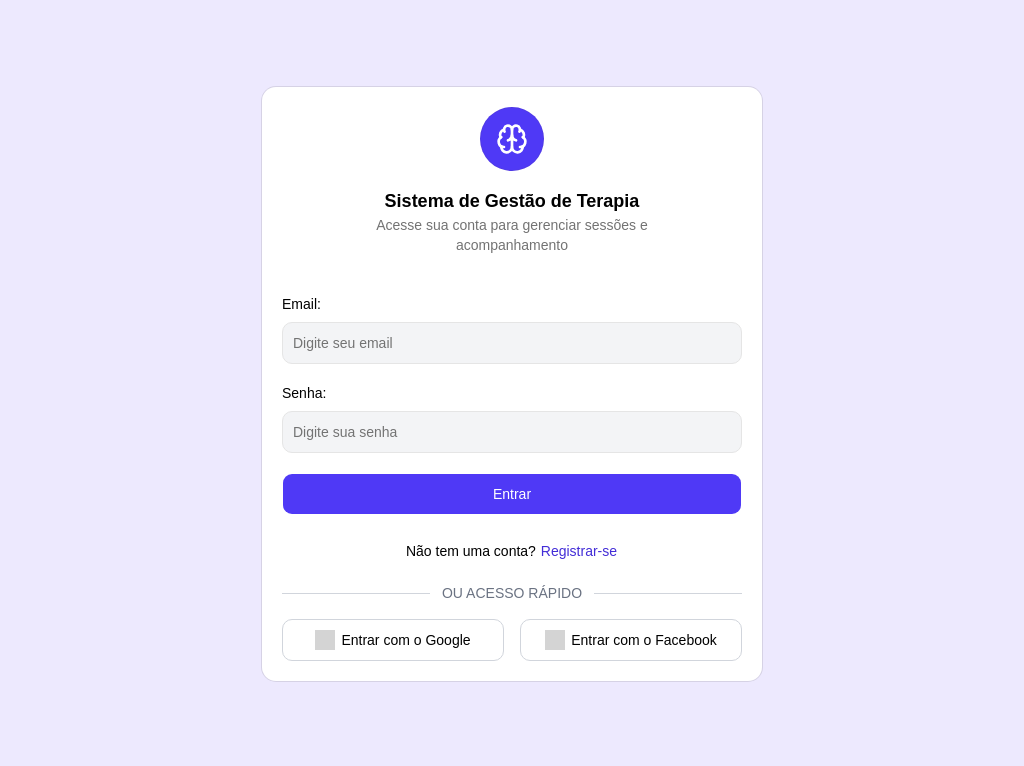
Test: Teste de Navegação do Paciente › Deve navegar para a página de agendamento de sessão
Type "teste@teste.com" into the field named "email". click: x=512, y=343
box: [282, 322, 742, 364]
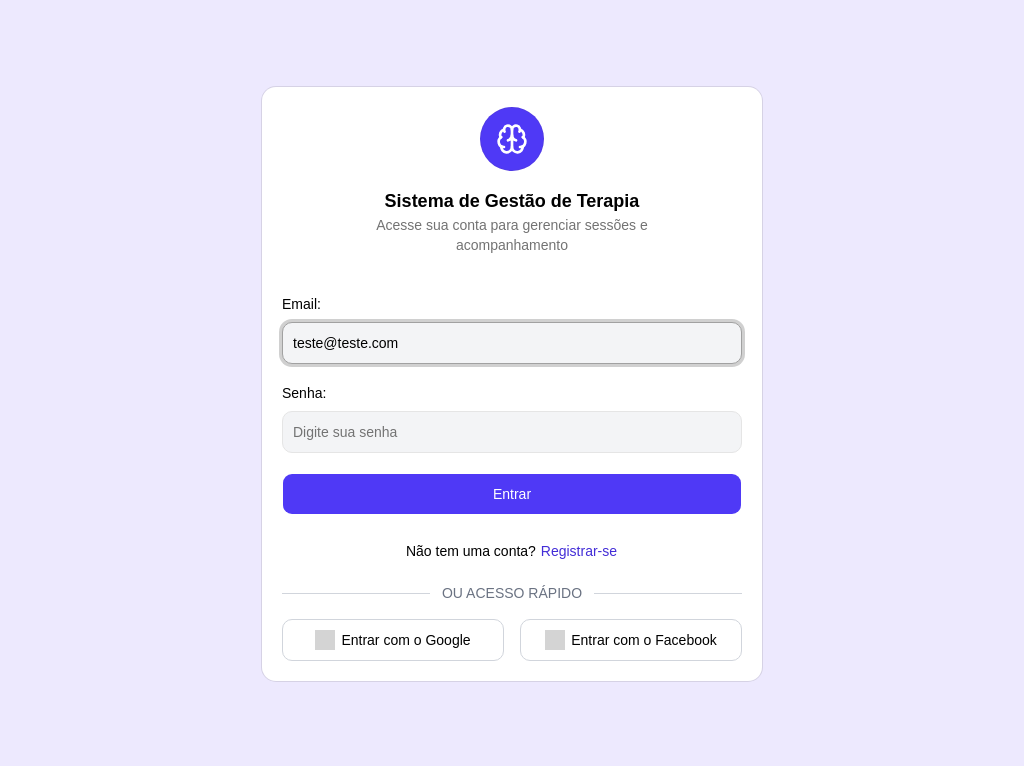
Type "1234" into the password field named "password". click: x=512, y=432
box: [282, 411, 742, 453]
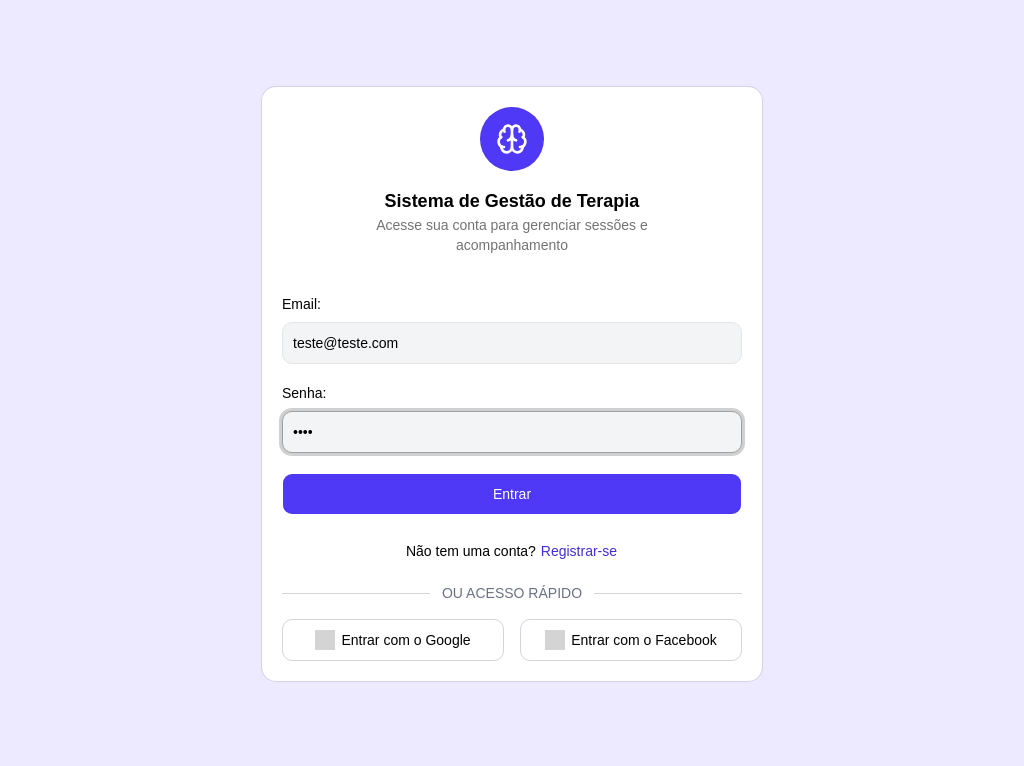
Click the submit button. click: x=512, y=494
box: [282, 473, 742, 515]
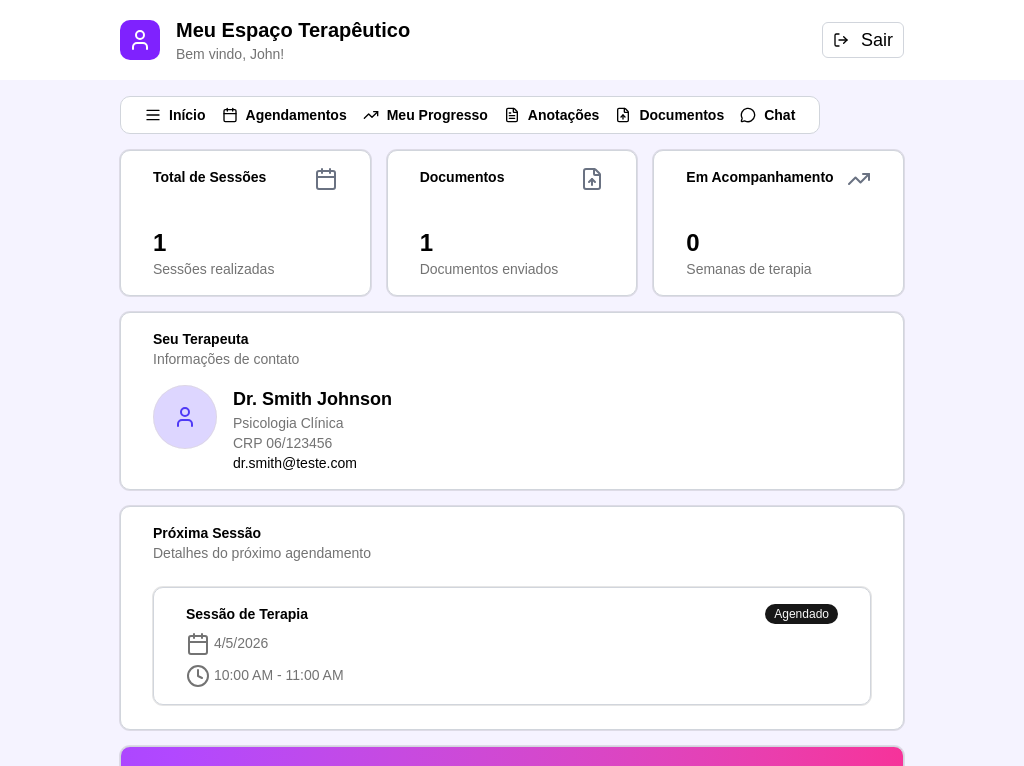
Click the link "Agendamentos". click: x=285, y=115
box: [222, 107, 347, 123]
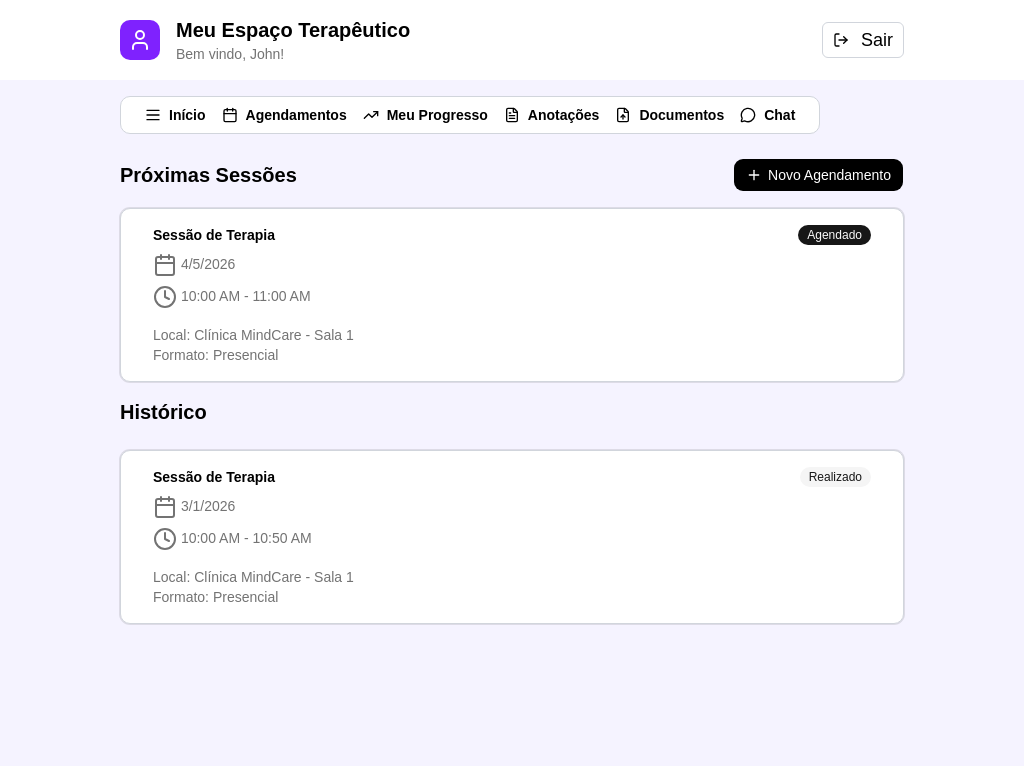
Expected: the heading "Próximas Sessões" is shown, [120, 161, 297, 189]
